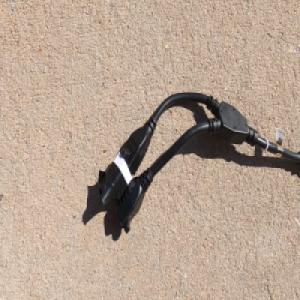Wire: (97, 89, 300, 235)
